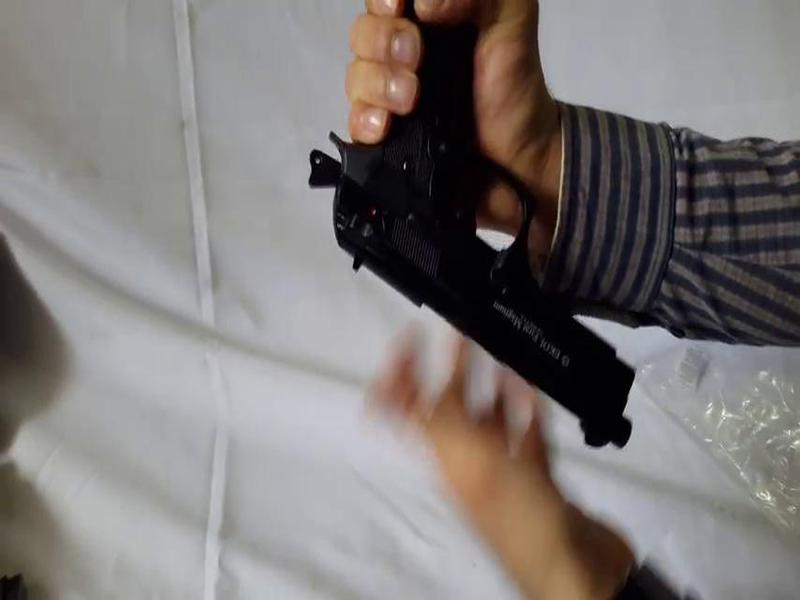Pistola: (286, 1, 655, 460)
